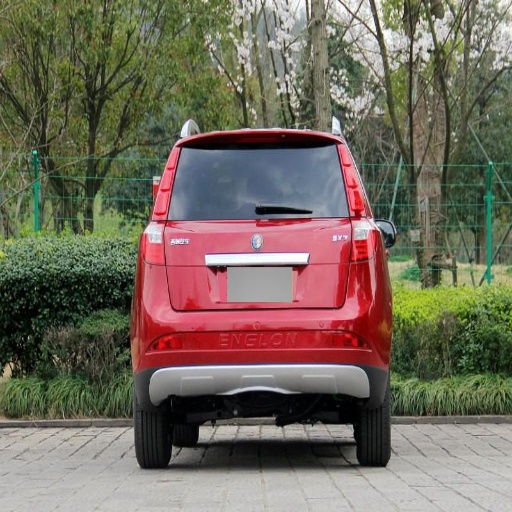back_bumper: (137, 261, 391, 398)
trunk: (145, 181, 352, 346)
